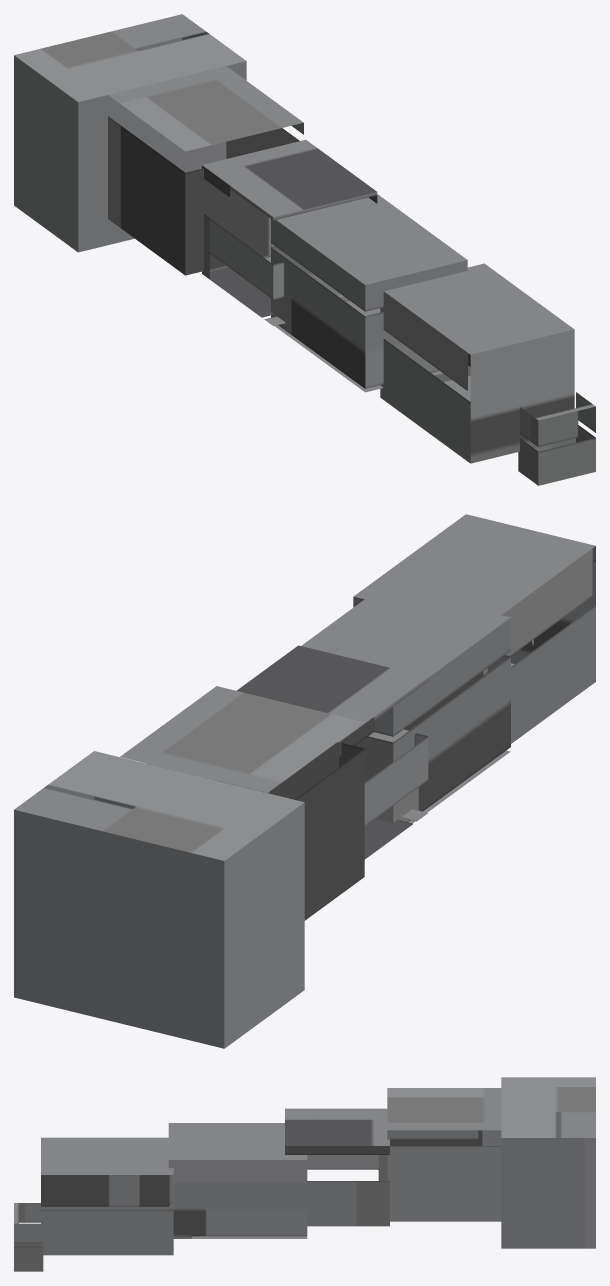
3 renders of one model, top to bottom at view 1: azimuth 30°, elevation 25°; view 2: azimuth 150°, elevation 25°; view 3: azimuth 270°, elevation 25°, orthographic. The views are drawn at different scales.
Size of the model in its own units: 0.646 by 0.572 by 2.37.
